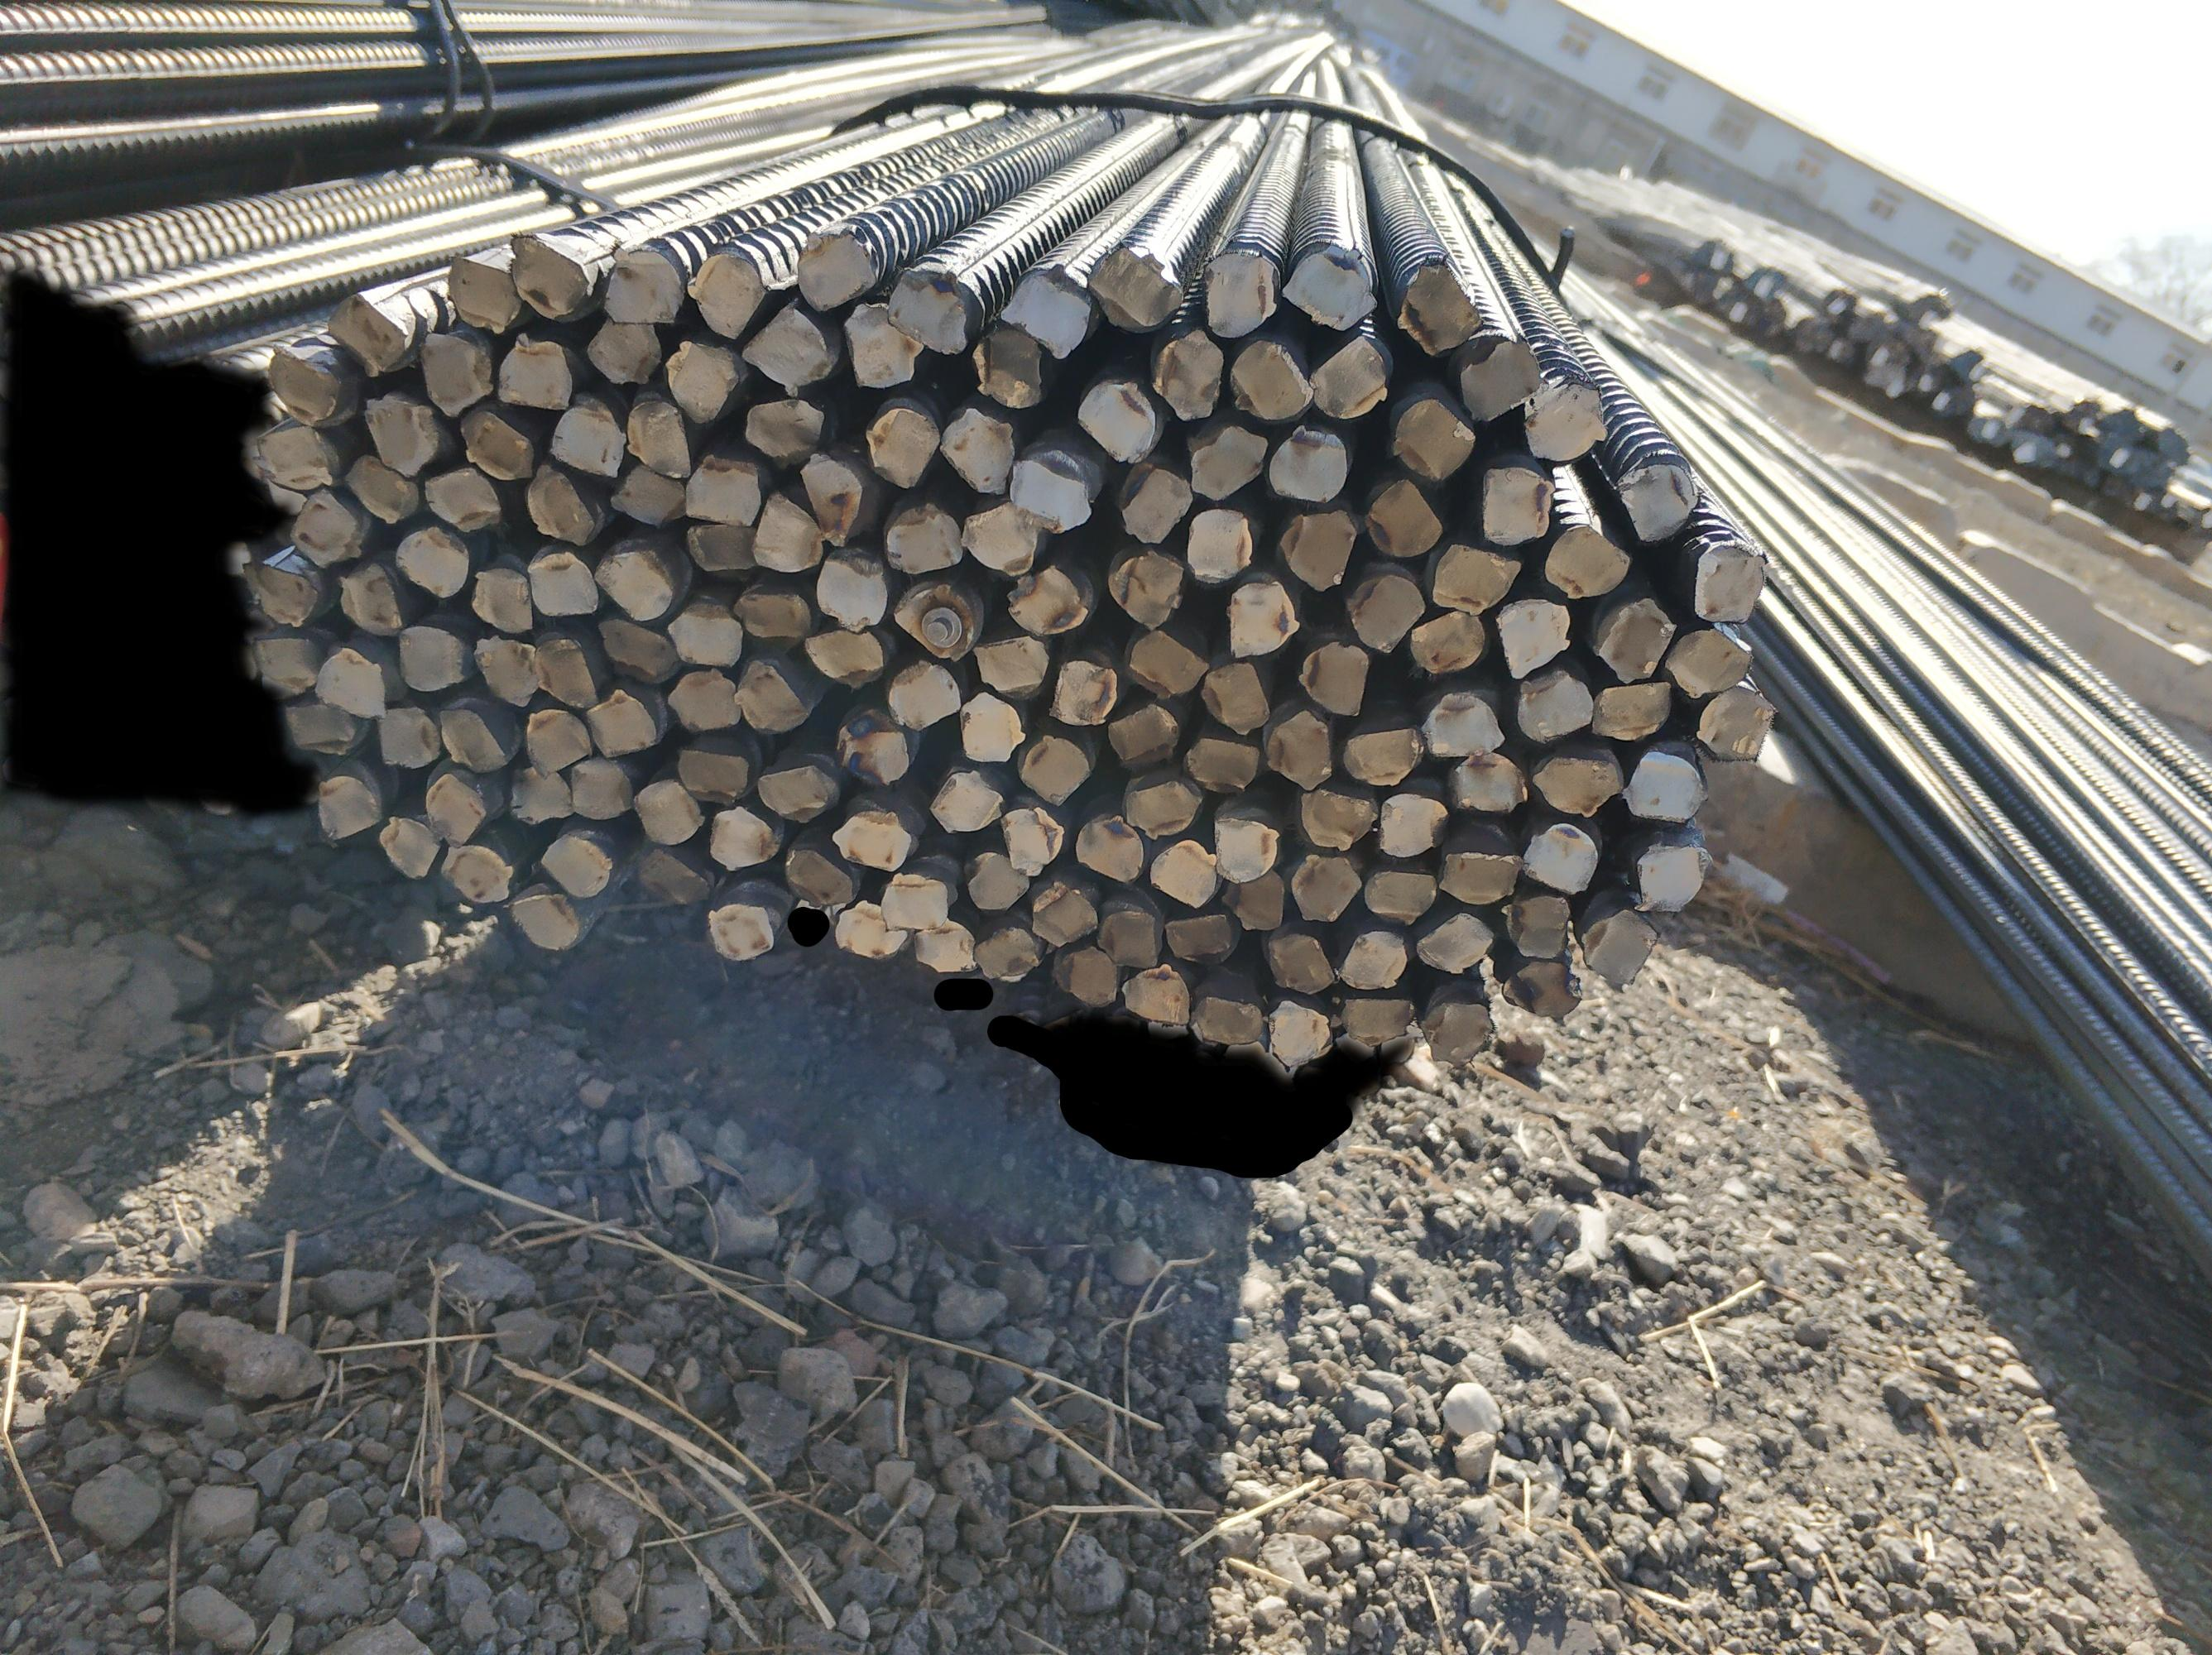bar: (1001, 261, 1089, 360), (740, 302, 834, 395), (1084, 243, 1182, 330), (1395, 259, 1482, 356), (1279, 245, 1378, 330), (507, 229, 591, 323), (1458, 332, 1543, 422), (839, 297, 923, 389), (1517, 382, 1611, 464), (1225, 336, 1314, 421), (1619, 459, 1705, 548), (937, 403, 1017, 497), (686, 250, 766, 342), (1392, 395, 1477, 480), (1307, 329, 1390, 415), (1619, 748, 1710, 827), (1202, 243, 1277, 339), (886, 268, 968, 355), (1010, 449, 1091, 535), (1540, 520, 1630, 598), (1361, 475, 1444, 558), (794, 226, 876, 311), (1595, 596, 1675, 683), (1150, 327, 1222, 424), (1077, 376, 1156, 464), (599, 243, 683, 325), (891, 582, 977, 662), (1347, 570, 1427, 655), (262, 337, 339, 426), (328, 289, 405, 377), (415, 329, 492, 417), (664, 337, 740, 426), (1663, 624, 1755, 697), (798, 449, 865, 548), (1270, 421, 1352, 502), (1493, 595, 1573, 678), (1279, 504, 1357, 589), (1003, 562, 1091, 636), (1432, 542, 1524, 614), (1187, 421, 1270, 499), (1109, 544, 1185, 629), (959, 497, 1044, 574), (1691, 534, 1765, 621), (523, 461, 596, 549), (361, 395, 440, 476), (1694, 685, 1776, 763), (447, 250, 523, 334), (836, 708, 912, 791), (1116, 461, 1192, 544), (879, 499, 964, 574), (815, 546, 888, 633), (309, 643, 389, 721), (593, 546, 674, 622), (864, 405, 940, 487), (1519, 819, 1600, 895), (968, 327, 1043, 410), (679, 452, 765, 525), (1263, 708, 1336, 793), (1123, 629, 1211, 699), (497, 330, 573, 410), (883, 659, 963, 735), (732, 657, 806, 739), (749, 490, 824, 572), (1225, 577, 1300, 659), (1479, 462, 1553, 544), (1418, 688, 1505, 758), (1533, 748, 1621, 815), (1581, 909, 1658, 987), (732, 589, 811, 664), (236, 558, 320, 629), (742, 395, 825, 466), (391, 522, 469, 596), (459, 403, 533, 482), (254, 421, 332, 494), (288, 490, 361, 568), (549, 403, 627, 476), (1515, 668, 1593, 741), (1298, 636, 1369, 716), (596, 615, 679, 683), (422, 464, 502, 534), (1296, 784, 1376, 854), (829, 805, 911, 873), (624, 396, 690, 480), (1447, 746, 1531, 812), (584, 685, 657, 760), (1209, 810, 1282, 885), (1633, 838, 1706, 913), (1407, 605, 1486, 675), (1185, 504, 1253, 584), (532, 629, 598, 711), (1017, 732, 1089, 805), (1437, 843, 1522, 906), (332, 560, 403, 635), (586, 316, 660, 388), (1416, 911, 1494, 979), (662, 600, 744, 664), (1201, 661, 1272, 734), (421, 768, 490, 843), (344, 454, 419, 523), (1291, 848, 1361, 923), (436, 702, 507, 774), (957, 690, 1027, 763), (1109, 699, 1178, 772), (1150, 836, 1220, 909), (667, 668, 744, 734), (1124, 774, 1201, 840), (1343, 723, 1421, 788), (1592, 676, 1670, 741), (471, 631, 539, 704), (527, 548, 599, 615), (836, 895, 909, 963), (928, 767, 1003, 833), (631, 847, 709, 909), (803, 628, 883, 688), (756, 761, 836, 822), (1500, 960, 1580, 1020), (705, 803, 775, 873), (1378, 788, 1447, 857), (313, 774, 384, 841), (1076, 812, 1143, 883), (1265, 996, 1331, 1069), (973, 633, 1048, 697), (523, 706, 593, 774), (634, 777, 702, 847), (1029, 880, 1098, 947), (539, 831, 610, 897), (394, 626, 466, 692), (441, 840, 514, 904), (1498, 894, 1571, 958), (250, 633, 325, 695), (506, 892, 582, 953), (610, 464, 686, 525), (278, 701, 356, 760), (1051, 940, 1117, 1010), (1119, 961, 1189, 1027), (1421, 1001, 1491, 1067), (563, 756, 634, 821), (999, 805, 1063, 876), (676, 742, 749, 805), (878, 869, 950, 932), (1048, 659, 1116, 725), (1263, 930, 1333, 994), (1341, 927, 1411, 991), (1364, 866, 1437, 927), (467, 568, 533, 635), (375, 706, 440, 774), (705, 901, 775, 963), (685, 518, 759, 575), (1222, 867, 1288, 932), (961, 850, 1029, 913), (784, 845, 853, 906), (1185, 737, 1258, 794), (507, 763, 572, 827), (1164, 909, 1235, 967), (377, 812, 438, 878), (1093, 909, 1159, 970), (1194, 989, 1263, 1047), (1343, 993, 1414, 1047), (971, 925, 1037, 982), (912, 918, 980, 974)
